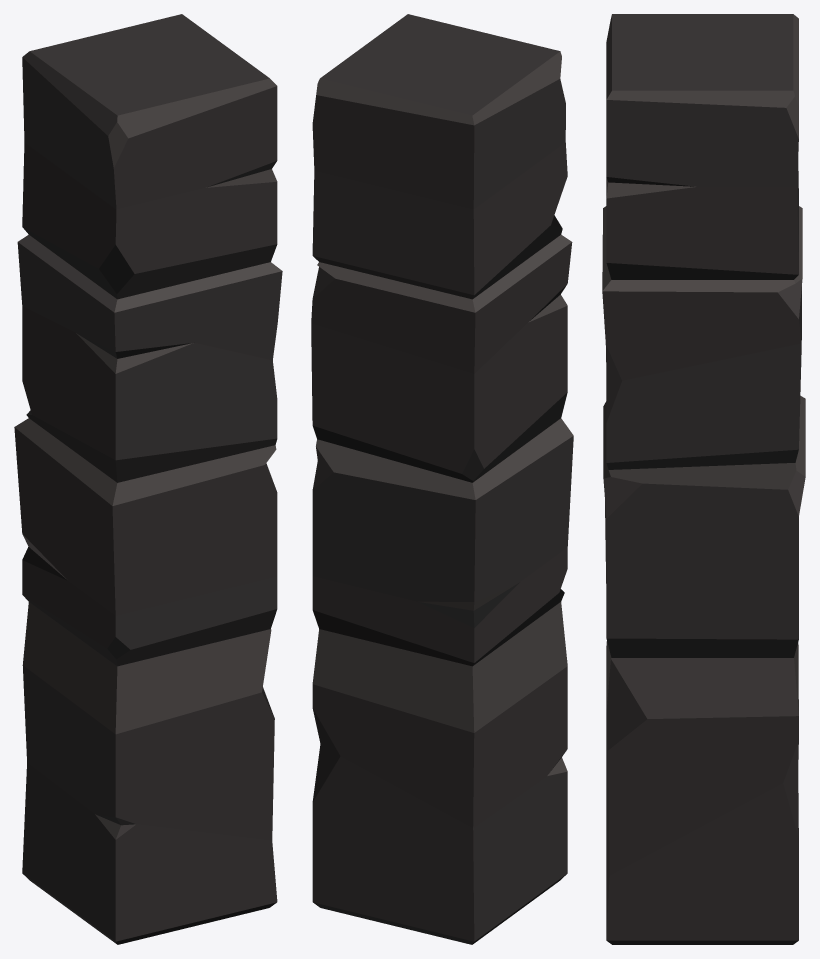
File: Fence_Stone_Block_03.glb
The picture shows the model from 3 angles, left to right: view 1: azimuth 30°, elevation 25°; view 2: azimuth 150°, elevation 25°; view 3: azimuth 270°, elevation 25°; orthographic projection. The views are drawn at different scales.
Visible parts, largest first — view 1: Fence_Stone_Block_03; view 2: Fence_Stone_Block_03; view 3: Fence_Stone_Block_03.
Boxes of the visible parts, left/top/right/bottom form: Fence_Stone_Block_03: left=14, top=14, right=282, bottom=944; Fence_Stone_Block_03: left=311, top=14, right=573, bottom=944; Fence_Stone_Block_03: left=602, top=14, right=805, bottom=944.
Size of what is drawn, in the model's own units: 0.2095 by 0.9799 by 0.2113.
1 material, 1 textured.
